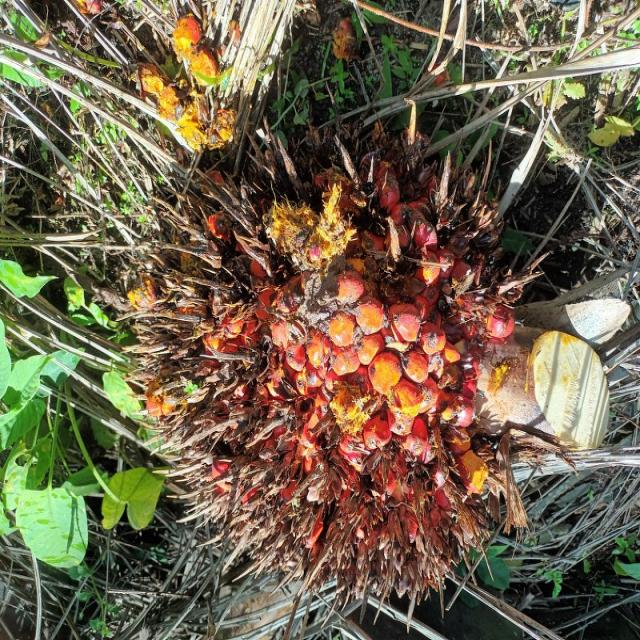fraksi 3: (14, 158, 426, 640)
